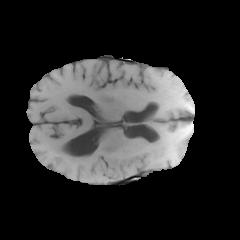glioma: (53, 111, 191, 180)
